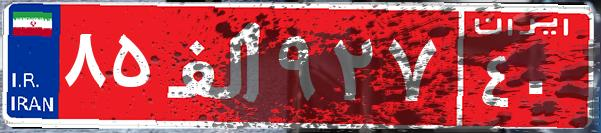0: (525, 38, 570, 115)
2: (330, 28, 385, 110)
4: (475, 38, 525, 113)
5: (110, 28, 158, 105)
7: (385, 28, 445, 110)
8: (57, 26, 110, 107)
9: (273, 28, 330, 110)
الف: (158, 15, 273, 115)
